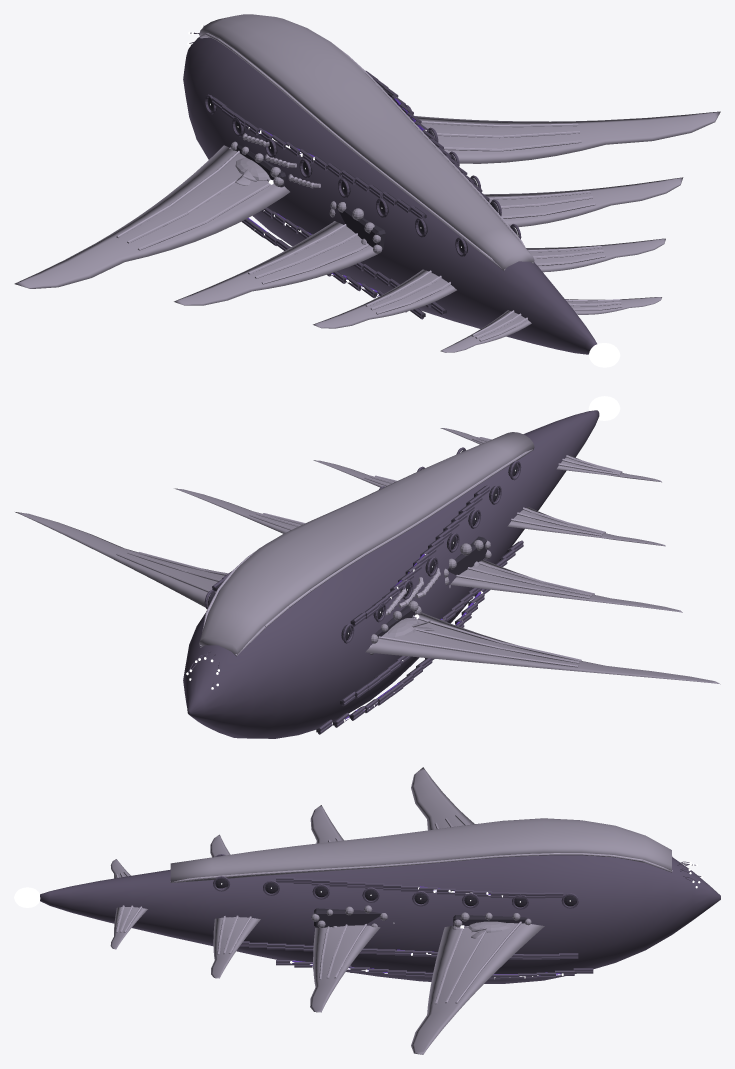
3 views of the same model, one above another, from view 1: azimuth 30°, elevation 25°; view 2: azimuth 150°, elevation 25°; view 3: azimuth 270°, elevation 25° (orthographic). The views are drawn at different scales.
Visible parts, largest first — view 1: RIMWARD_HULL, RIMWARD_ENGINE_GLOW; view 2: RIMWARD_HULL, RIMWARD_ENGINE_GLOW; view 3: RIMWARD_HULL.
Boxes of the visible parts, x1,y1,x2,y2 form: RIMWARD_HULL: (14, 14, 720, 354); RIMWARD_ENGINE_GLOW: (588, 343, 620, 367); RIMWARD_HULL: (15, 410, 720, 738); RIMWARD_ENGINE_GLOW: (588, 396, 620, 420); RIMWARD_HULL: (40, 767, 720, 1054).
Bounding box in the file's own units: 28.93 × 7.07 × 30.02.
